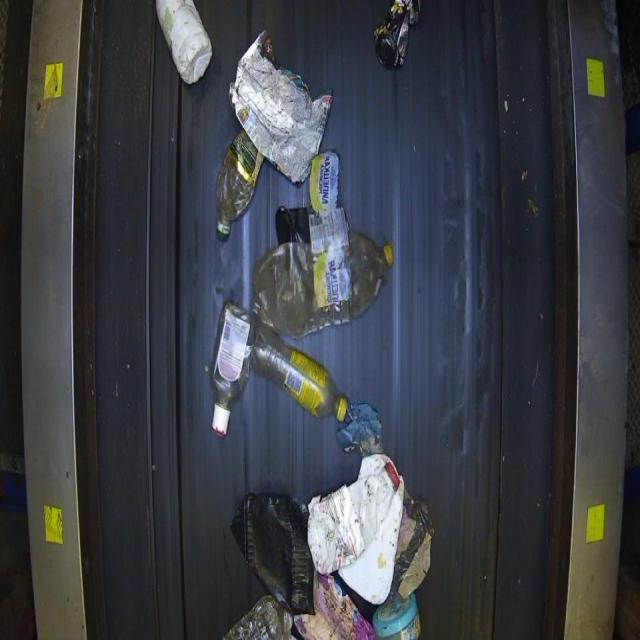cardboard: (14, 0, 631, 639)
